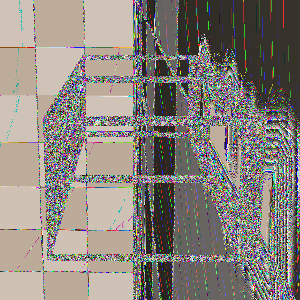Rack: (32, 35, 257, 246)
